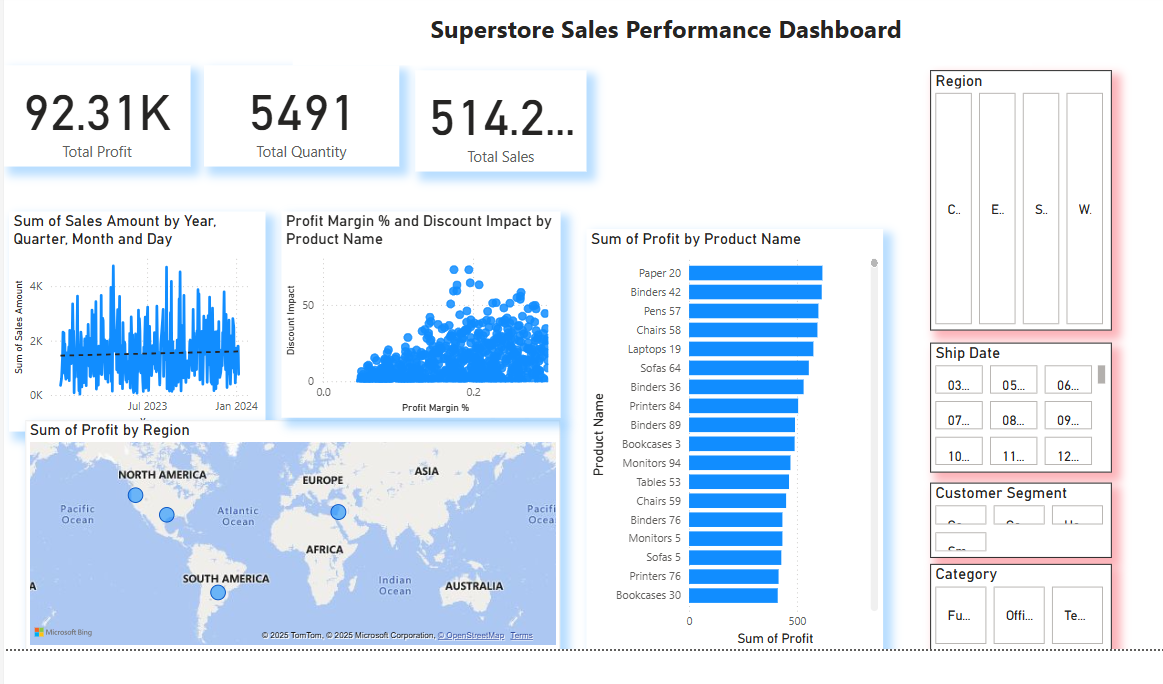

This screenshot's page, from the dashboard's own definition file:
{"tool":"powerbi","page":{"name":"Page 6","canvas":[1280,720],"ordinal":5},"visuals":[{"type":"card","fields":{"Values":["Sheet1.Total Profit"]},"box":[0,78.2,204.5,111.1],"z":0},{"type":"card","fields":{"Values":["Sheet1.Total Quantity"]},"box":[219.6,78.2,214.1,111.1],"z":1000},{"type":"card","fields":{"Values":["Sheet1.Total Sales"]},"box":[451.5,83.7,188,111.1],"z":2000},{"type":"lineChart","fields":{"Category":["Sheet1.Ship Date.Variation.Date Hierarchy.Year","Sheet1.Ship Date.Variation.Date Hierarchy.Quarter","Sheet1.Ship Date.Variation.Date Hierarchy.Month","Sheet1.Ship Date.Variation.Date Hierarchy.Day"],"Y":["Sum(Sheet1.Sales Amount)"]},"box":[5.5,238.8,281.3,241.5],"z":3000},{"type":"map","fields":{"Category":["Sheet1.Region"],"Size":["Sum(Sheet1.Profit)"]},"box":[23.3,467.9,587.3,252.5],"z":4000},{"type":"advancedSlicerVisual","fields":{"Values":["Sheet1.Region"]},"box":[1016.8,83.7,199,285.4],"z":5000},{"type":"clusteredBarChart","fields":{"Category":["Sheet1.Product Name"],"Y":["Sum(Sheet1.Profit)"]},"box":[639.5,258,325.2,462.4],"z":6000},{"type":"scatterChart","fields":{"X":["Sheet1.Profit Margin %"],"Y":["Sheet1.Discount Impact"],"Category":["Sheet1.Product Name"]},"box":[304.6,238.8,306,226.4],"z":7000},{"type":"advancedSlicerVisual","fields":{"Values":["Sheet1.Ship Date"]},"box":[1016.8,382.8,199,142.7],"z":8000},{"type":"advancedSlicerVisual","fields":{"Values":["Sheet1.Customer Segment"]},"box":[1016.8,536.5,199,82.3],"z":9000},{"type":"advancedSlicerVisual","fields":{"Values":["Sheet1.Category"]},"box":[1016.8,625.7,199,94.7],"z":10000},{"type":"textbox","box":[317,15.1,812.4,63.1],"z":10001}]}

Visuals, with their boxes on the page's 1280x720 design canvas (x1, y1, x2, y2). These are canvas units, not pixel positions in the 1163x684 screenshot, which may show the page scaled, cropped or inside an application window:
card - Sheet1.Total Profit: (left=0, top=78, right=204, bottom=189)
card - Sheet1.Total Quantity: (left=220, top=78, right=434, bottom=189)
card - Sheet1.Total Sales: (left=452, top=84, right=640, bottom=195)
lineChart - Sheet1.Ship Date.Variation.Date Hierarchy.Year x Sheet1.Ship Date.Variation.Date Hierarchy.Quarter: (left=6, top=239, right=287, bottom=480)
map - Sheet1.Region x Sum(Sheet1.Profit): (left=23, top=468, right=611, bottom=720)
advancedSlicerVisual - Sheet1.Region: (left=1017, top=84, right=1216, bottom=369)
clusteredBarChart - Sheet1.Product Name x Sum(Sheet1.Profit): (left=640, top=258, right=965, bottom=720)
scatterChart - Sheet1.Profit Margin % x Sheet1.Discount Impact: (left=305, top=239, right=611, bottom=465)
advancedSlicerVisual - Sheet1.Ship Date: (left=1017, top=383, right=1216, bottom=526)
advancedSlicerVisual - Sheet1.Customer Segment: (left=1017, top=536, right=1216, bottom=619)
advancedSlicerVisual - Sheet1.Category: (left=1017, top=626, right=1216, bottom=720)
textbox: (left=317, top=15, right=1129, bottom=78)
